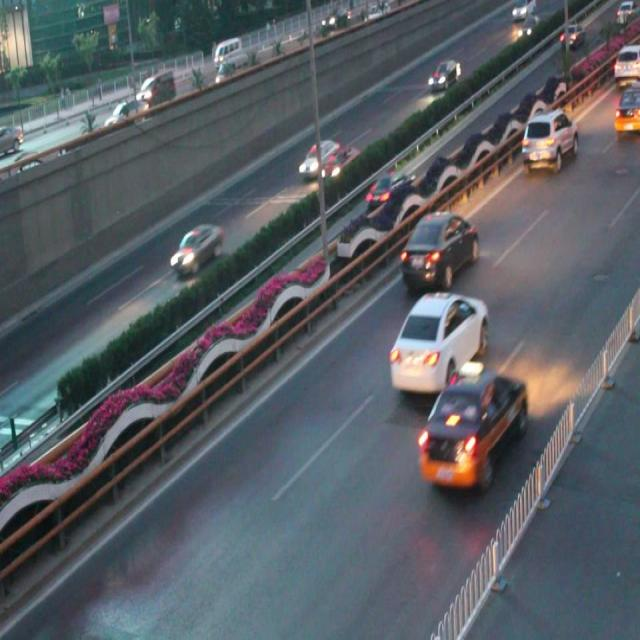car: (416, 359, 526, 486), (388, 288, 488, 391), (400, 209, 475, 289), (518, 110, 577, 171), (168, 222, 225, 278), (364, 166, 412, 211), (297, 139, 339, 180), (318, 145, 358, 183), (425, 57, 460, 96)
